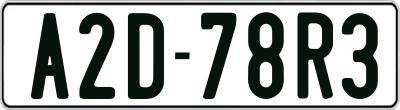2: (76, 12, 117, 104)
3: (341, 13, 378, 102)
7: (200, 12, 237, 100)
8: (245, 10, 285, 100)
A: (30, 11, 69, 101)
D: (128, 10, 165, 97)
R: (297, 12, 337, 102)
